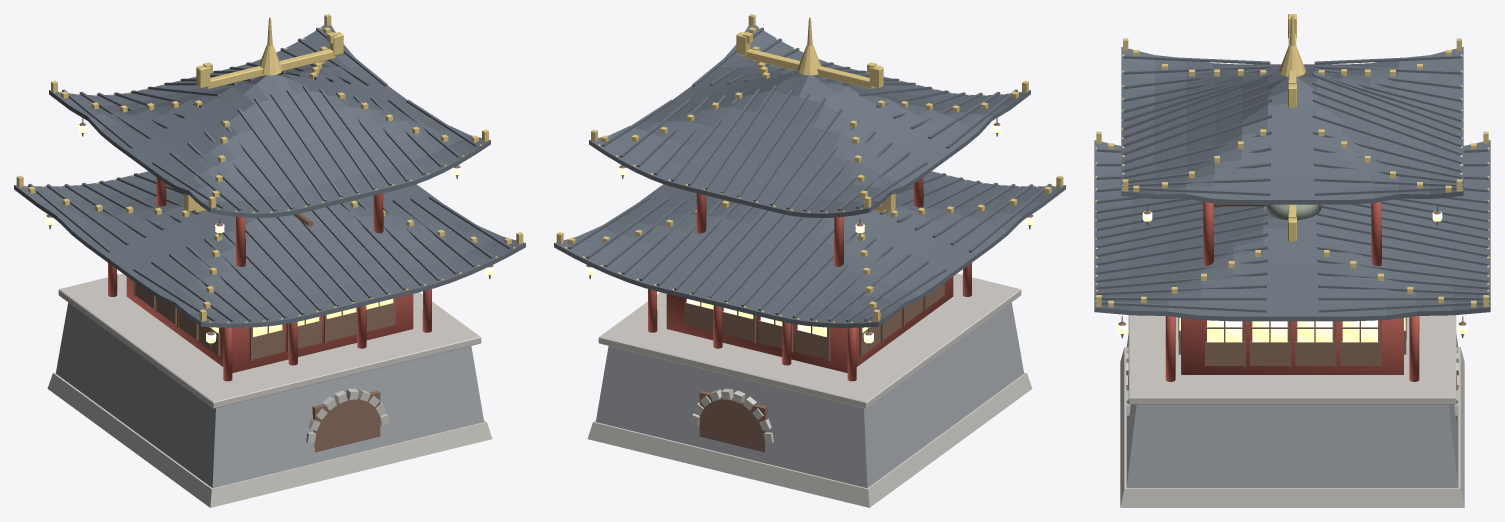
File: bell-tower.glb
3 views of the same model, side by side, from view 1: azimuth 30°, elevation 25°; view 2: azimuth 150°, elevation 25°; view 3: azimuth 270°, elevation 25° (orthographic). The views are drawn at different scales.
Parts seen in each view (by area): view 1: bt_tile, bt_brick, bt_stone, bt_wood, bt_red, bt_gold, bt_glow; view 2: bt_tile, bt_brick, bt_stone, bt_wood, bt_red, bt_gold, bt_glow; view 3: bt_tile, bt_brick, bt_stone, bt_red, bt_wood, bt_gold, bt_glow, bt_bronze.
Part boxes in pixels (bbox=[...]): bt_tile: bbox=[14, 25, 525, 327]; bt_brick: bbox=[56, 302, 483, 488]; bt_stone: bbox=[47, 273, 492, 507]; bt_wood: bbox=[46, 118, 493, 452]; bt_red: bbox=[108, 177, 431, 381]; bt_gold: bbox=[16, 14, 523, 323]; bt_glow: bbox=[45, 123, 494, 343]; bt_tile: bbox=[554, 25, 1065, 327]; bt_brick: bbox=[596, 302, 1023, 488]; bt_stone: bbox=[587, 273, 1032, 507]; bt_wood: bbox=[586, 118, 1033, 452]; bt_red: bbox=[648, 177, 971, 381]; bt_gold: bbox=[556, 14, 1063, 322]; bt_glow: bbox=[585, 123, 1034, 343]; bt_tile: bbox=[1094, 47, 1490, 321]; bt_brick: bbox=[1126, 334, 1458, 487]; bt_stone: bbox=[1120, 315, 1464, 507]; bt_red: bbox=[1165, 202, 1419, 381]; bt_wood: bbox=[1118, 203, 1466, 422]; bt_gold: bbox=[1095, 14, 1489, 307]; bt_glow: bbox=[1116, 211, 1468, 342]; bt_bronze: bbox=[1263, 204, 1321, 219].
Size of the model in its own units: 18.86 by 22 by 18.86.
